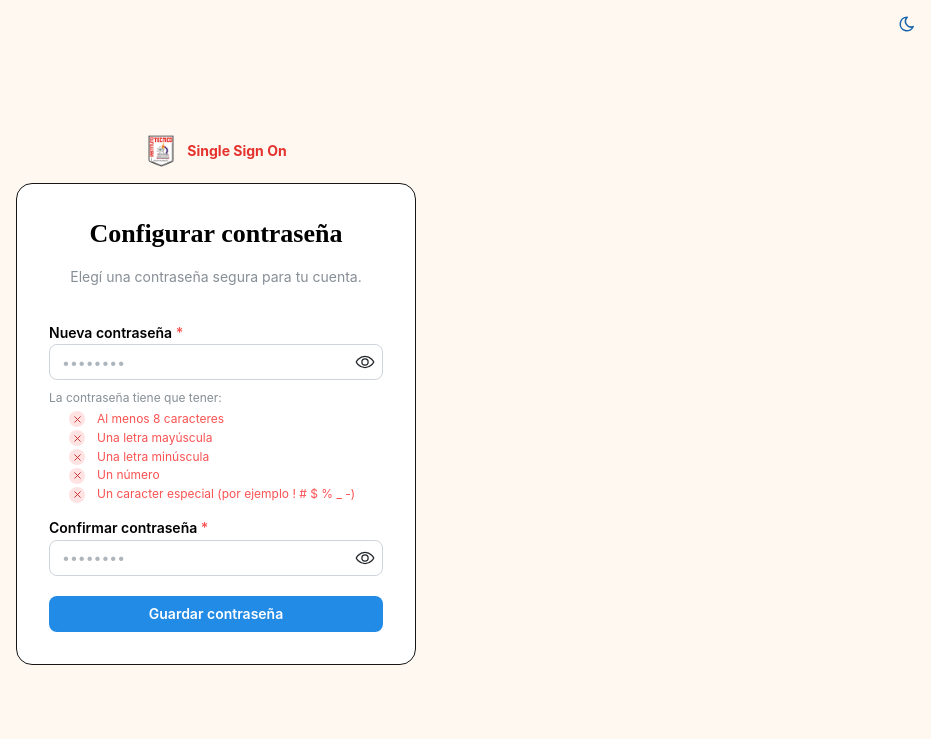
Test: SetPasswordPage › política de contraseñas › la política se informa antes que la falta de coincidencia
Type "password123" into the password field labelled "Nueva contraseña *" at (216, 362), box [50, 345, 382, 379]
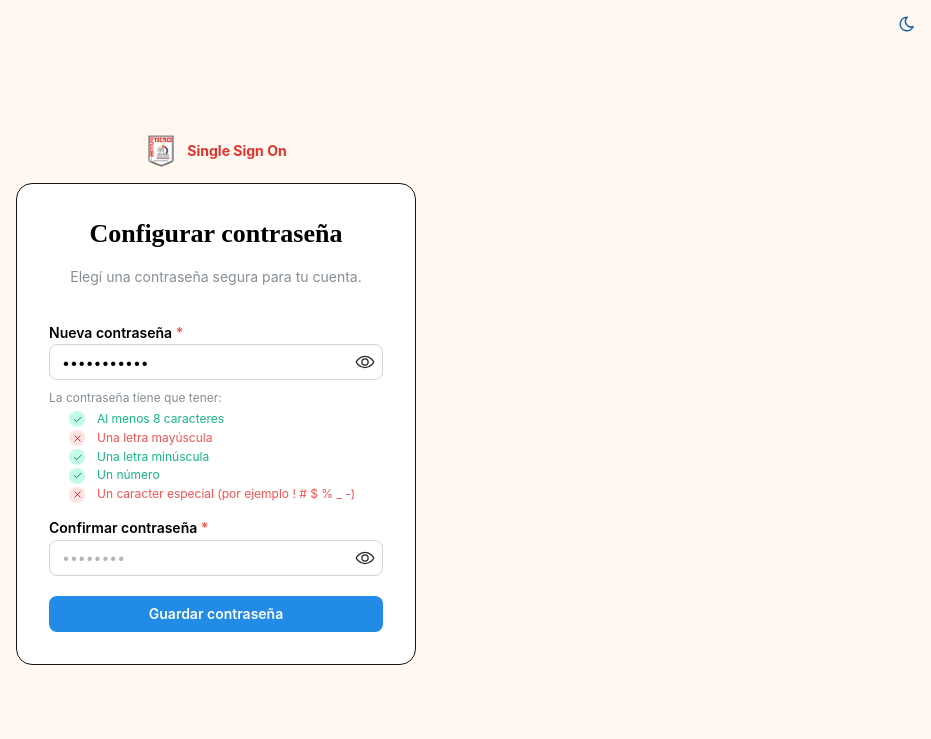
Type "otra" into the password field labelled "Confirmar contraseña *" at (216, 558), box [50, 541, 382, 575]
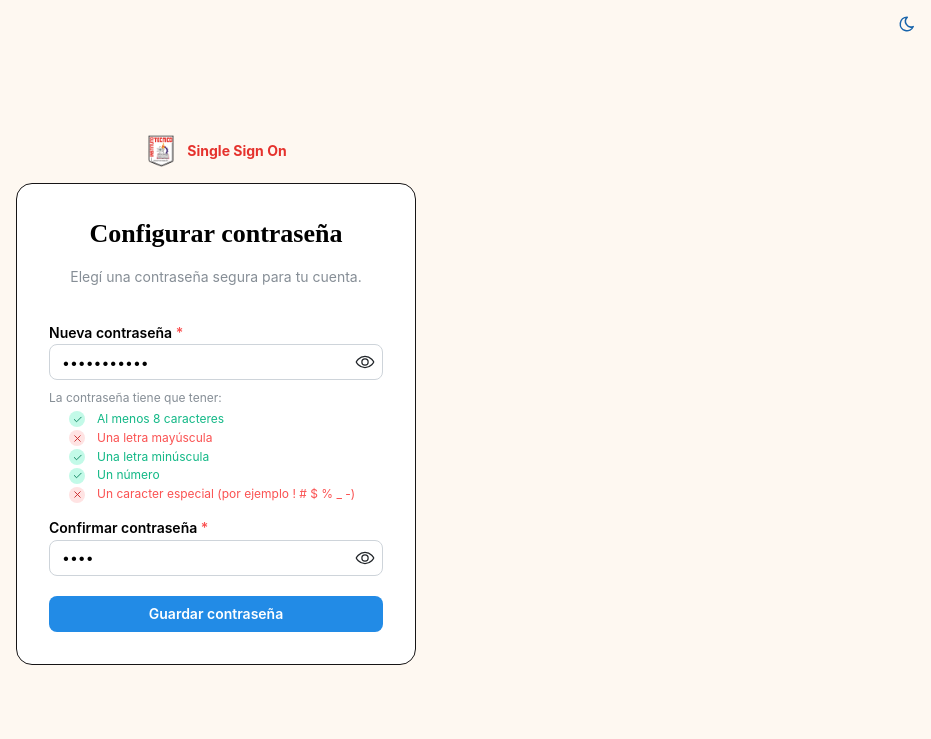
Click the button "Guardar contraseña" at (216, 614), box [49, 596, 383, 632]
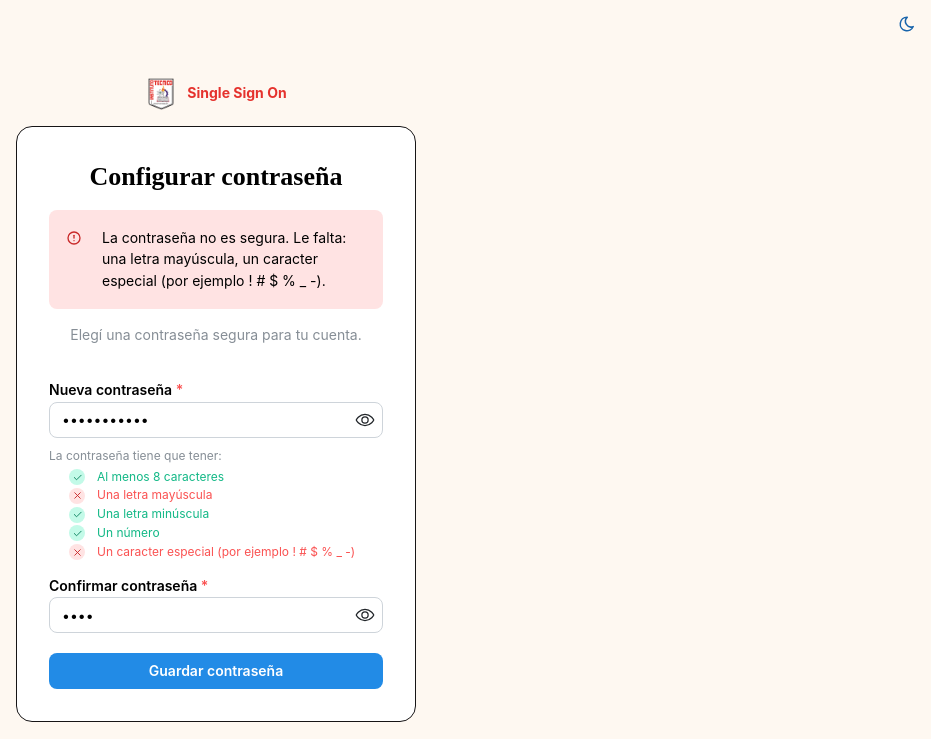
Result: the message shows "Le falta: una letra mayúscula, un caracter especial" at [102, 229, 346, 289]
